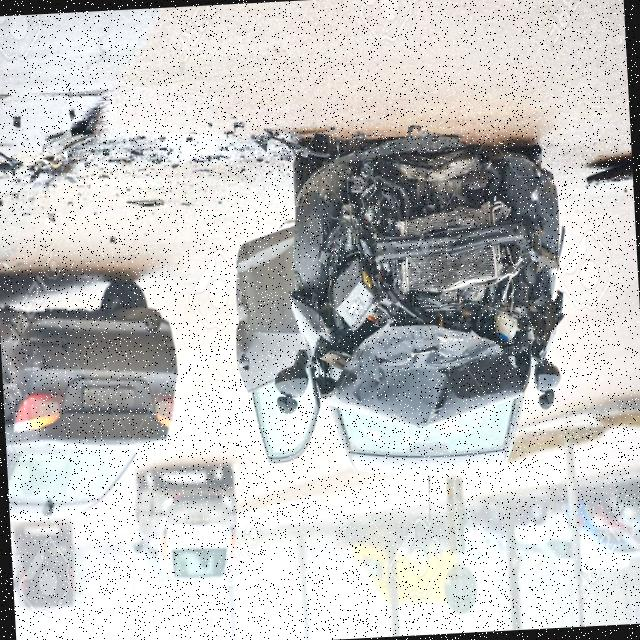Severe Damage: (256, 128, 568, 424)
